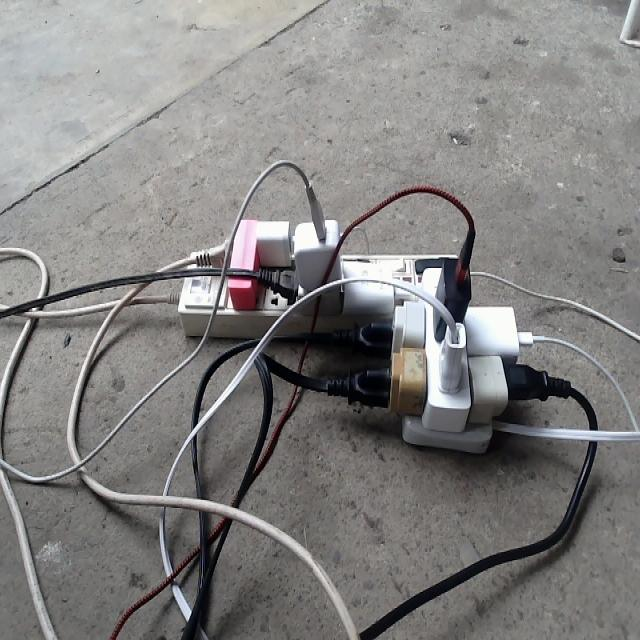-: (178, 158, 575, 454)
